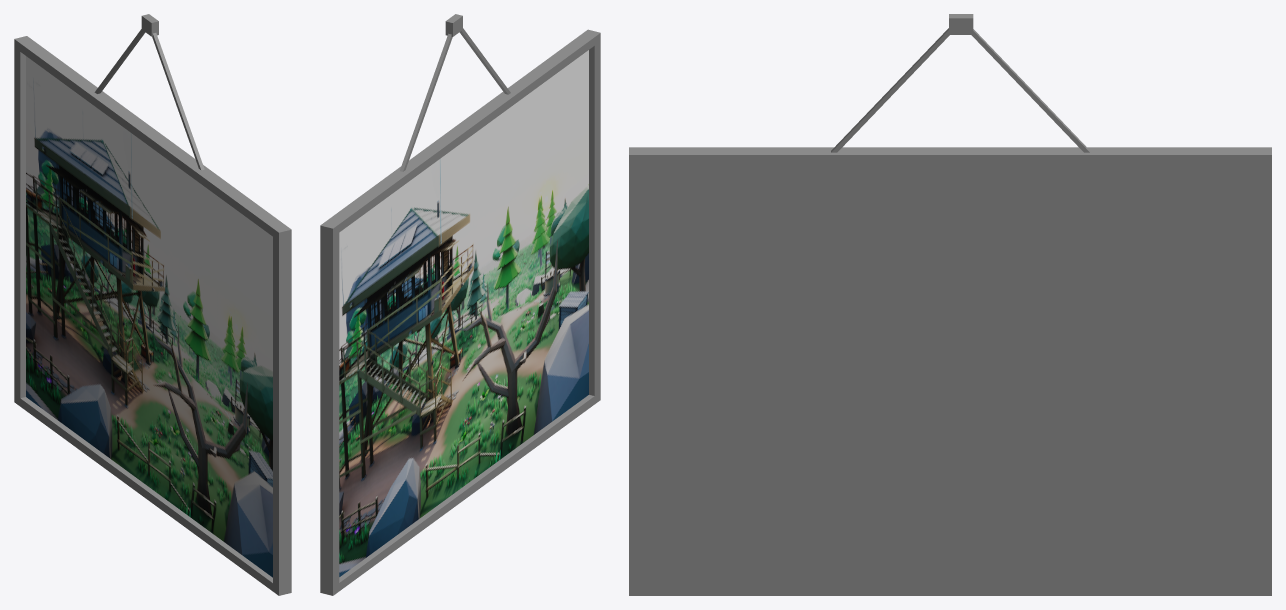
Rendered from SM_Photo_01.fbx.
3 renders of one model, left to right at view 1: azimuth 30°, elevation 25°; view 2: azimuth 150°, elevation 25°; view 3: azimuth 270°, elevation 25°, orthographic. The views are drawn at different scales.
Parts seen in each view (by area): view 1: SM_Photo_01; view 2: SM_Photo_01; view 3: SM_Photo_01.
Part boxes in pixels (x1,y1,x2,y2): SM_Photo_01: (14,14,291,595); SM_Photo_01: (320,14,600,595); SM_Photo_01: (629,14,1271,595).
Bounding box in the file's own units: 0.7223 × 25.64 × 25.88.
